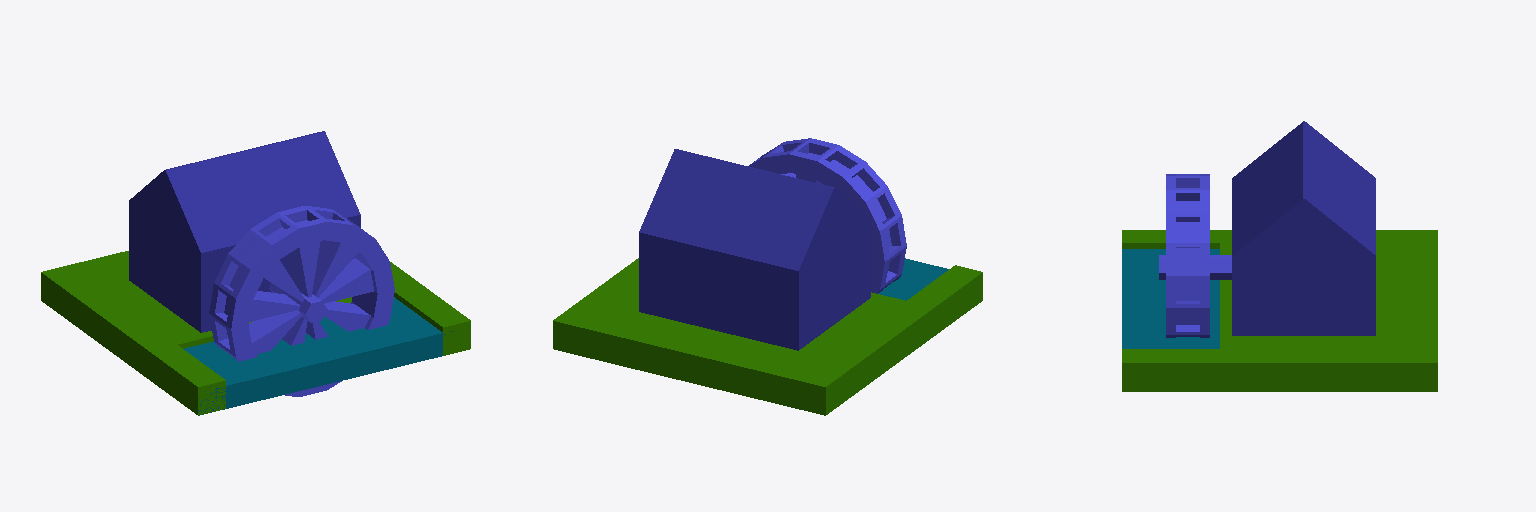
Rendered from Grinder0.obj.
3 renders of one model, left to right at view 1: azimuth 30°, elevation 25°; view 2: azimuth 150°, elevation 25°; view 3: azimuth 270°, elevation 25°, orthographic.
Visible parts, largest first — view 1: Box920, Mill, Tilebase127, Tilebase128, Cylinder137; view 2: Box920, Tilebase127, Mill, Tilebase128; view 3: Box920, Tilebase127, Mill, Tilebase128, Cylinder137.
Boxes of the visible parts, <box> form: Box920: <box>129,131,360,332</box>; Mill: <box>209,206,394,396</box>; Tilebase127: <box>41,251,470,415</box>; Tilebase128: <box>184,297,452,415</box>; Cylinder137: <box>269,283,327,322</box>; Box920: <box>639,149,870,350</box>; Tilebase127: <box>553,258,982,415</box>; Mill: <box>749,138,906,293</box>; Tilebase128: <box>878,258,948,300</box>; Box920: <box>1232,121,1375,335</box>; Tilebase127: <box>1122,230,1437,391</box>; Mill: <box>1166,174,1209,337</box>; Tilebase128: <box>1122,249,1219,348</box>; Cylinder137: <box>1159,255,1231,279</box>.
Bounding box in the file's own units: 10 × 6.73 × 10.